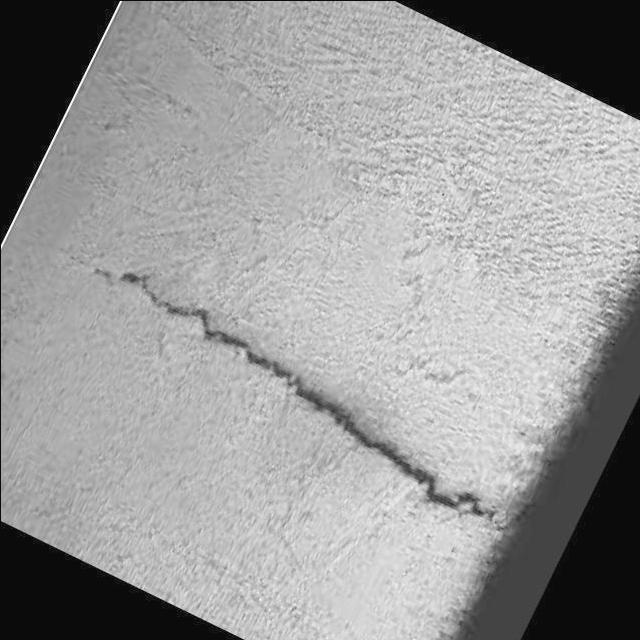defect: (110, 263, 500, 528)
